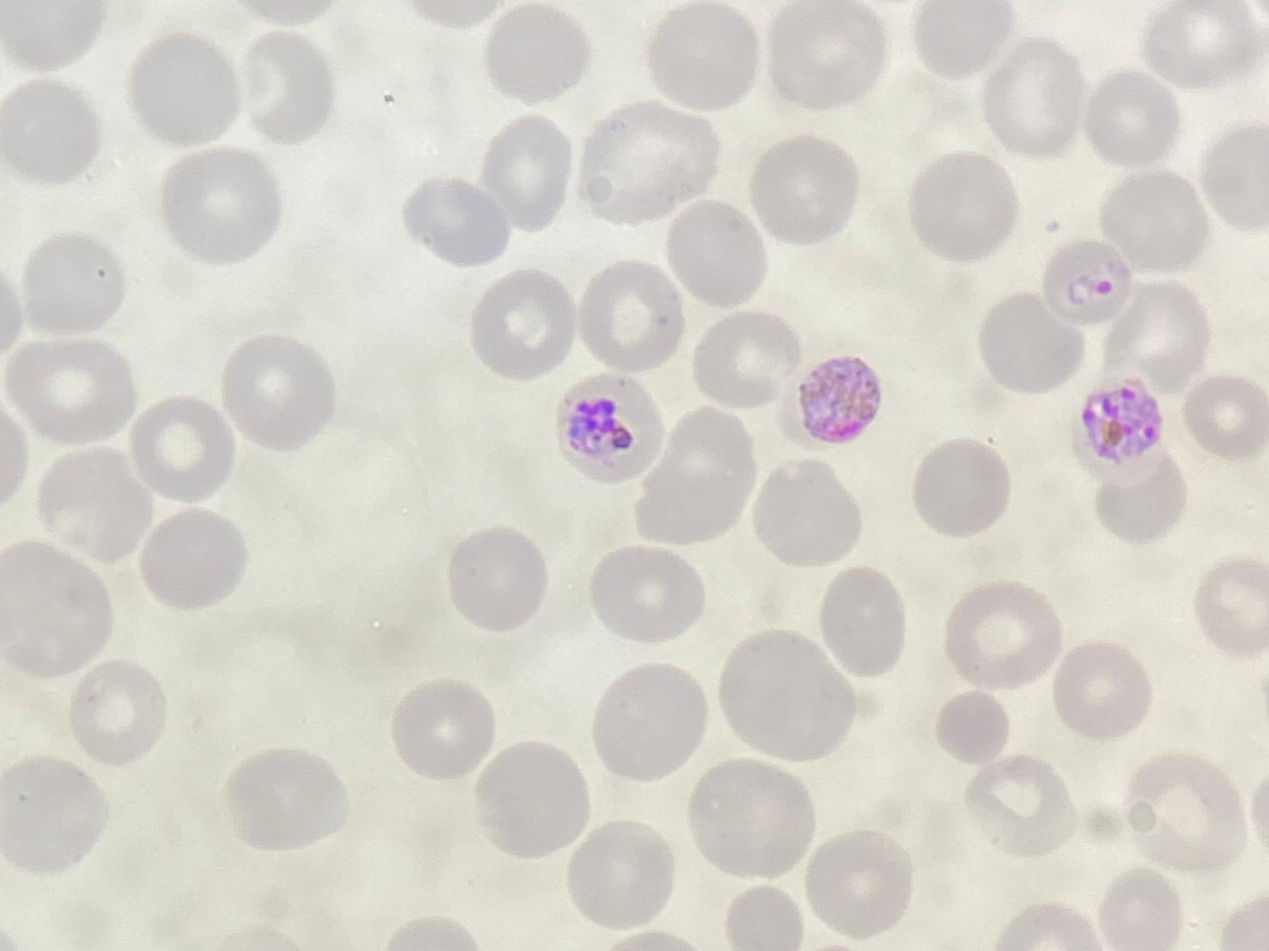Infected: (555, 375, 660, 482), (1073, 377, 1173, 470), (792, 352, 883, 447), (1042, 238, 1133, 325)
Uninfected: (717, 632, 853, 759), (633, 412, 754, 546), (579, 104, 715, 222), (0, 543, 114, 674), (689, 759, 814, 878), (6, 336, 137, 447), (1120, 754, 1243, 871), (159, 147, 280, 261), (591, 663, 709, 779), (34, 445, 151, 560), (222, 749, 347, 853), (220, 334, 334, 448), (126, 31, 240, 145), (473, 742, 588, 855), (942, 581, 1061, 690), (661, 195, 768, 311), (766, 2, 882, 108), (804, 831, 915, 939), (1, 758, 106, 872), (644, 4, 756, 110), (910, 152, 1019, 260), (751, 457, 860, 565), (981, 40, 1083, 154), (962, 754, 1076, 856), (479, 114, 578, 231), (753, 135, 861, 242), (469, 268, 575, 377), (579, 260, 685, 369), (1104, 285, 1209, 393), (589, 545, 704, 643), (19, 231, 127, 335), (139, 508, 250, 609), (1, 79, 104, 186), (128, 396, 235, 499), (566, 823, 673, 926), (446, 528, 549, 632), (1099, 170, 1203, 271), (392, 679, 497, 779), (483, 5, 589, 104), (68, 659, 167, 764), (691, 311, 798, 408), (245, 31, 337, 141), (983, 292, 1082, 393), (911, 439, 1011, 537), (403, 177, 510, 267), (1084, 68, 1180, 168), (1050, 642, 1149, 738), (820, 566, 907, 675), (1145, 0, 1254, 85), (1093, 454, 1186, 545), (1182, 373, 1269, 459), (1191, 558, 1269, 653), (914, 1, 1010, 78), (1199, 124, 1268, 229), (1, 1, 102, 71), (1099, 872, 1183, 946), (934, 689, 1011, 764), (725, 886, 804, 947)
